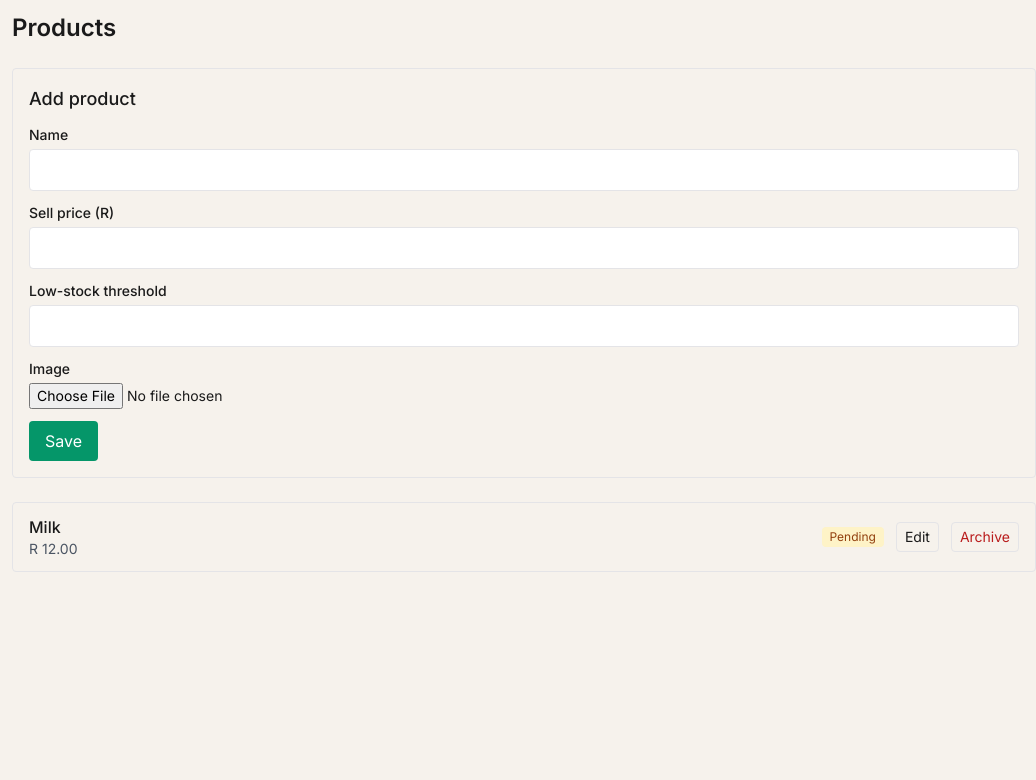
Test: ProductsPage › archives a product after confirming and removes it from the active list
Check: the text "Milk" is shown, box x1=29 y1=517 x2=61 y2=537
Click the button "Archive": (985, 537) x1=951 y1=522 x2=1019 y2=552
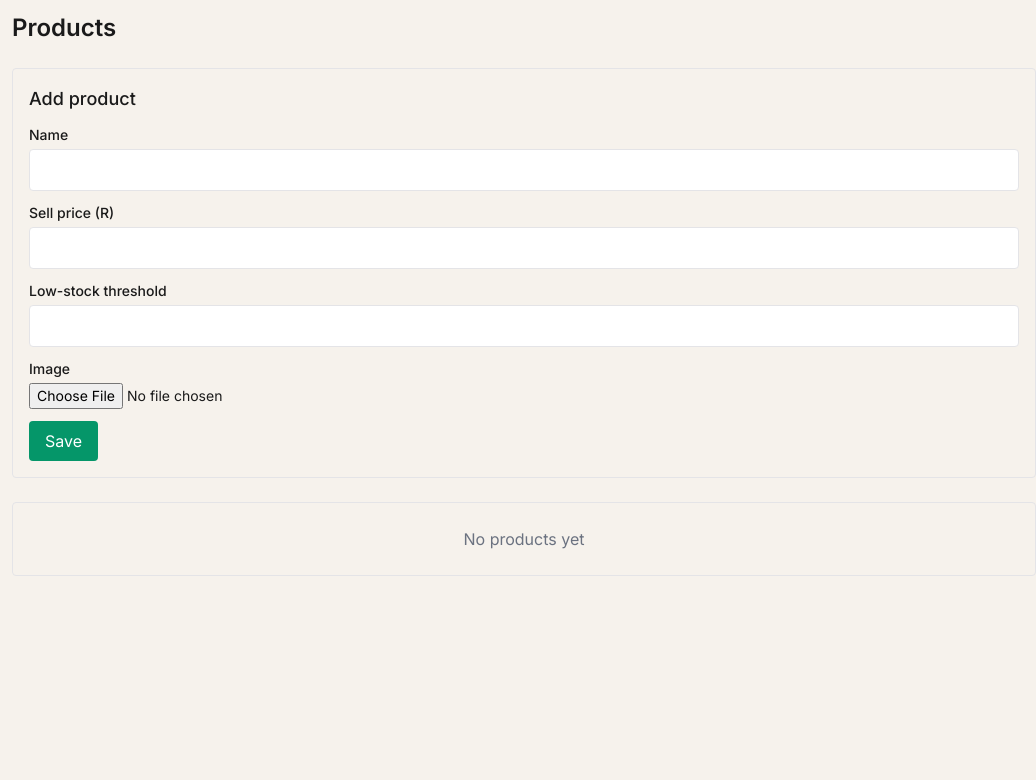
Check: the text "Milk" is gone
